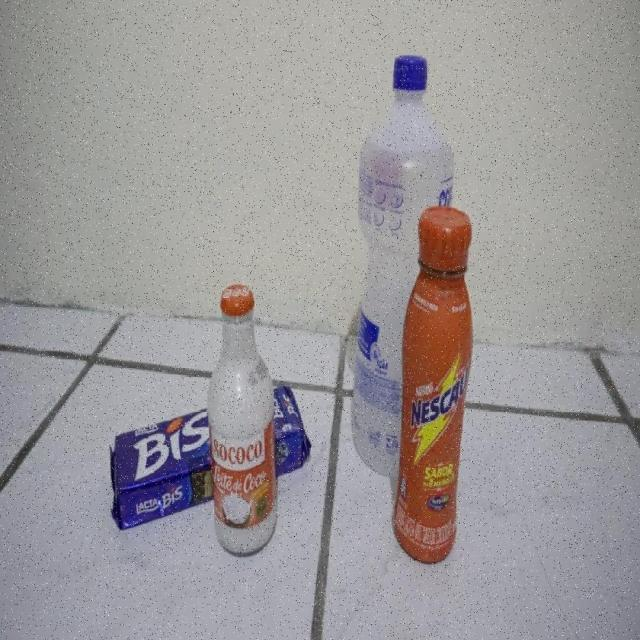AlcoholBottle: (352, 52, 456, 482)
ChocolateMilk: (392, 205, 474, 564)
CoconutMilk: (206, 281, 282, 557)
